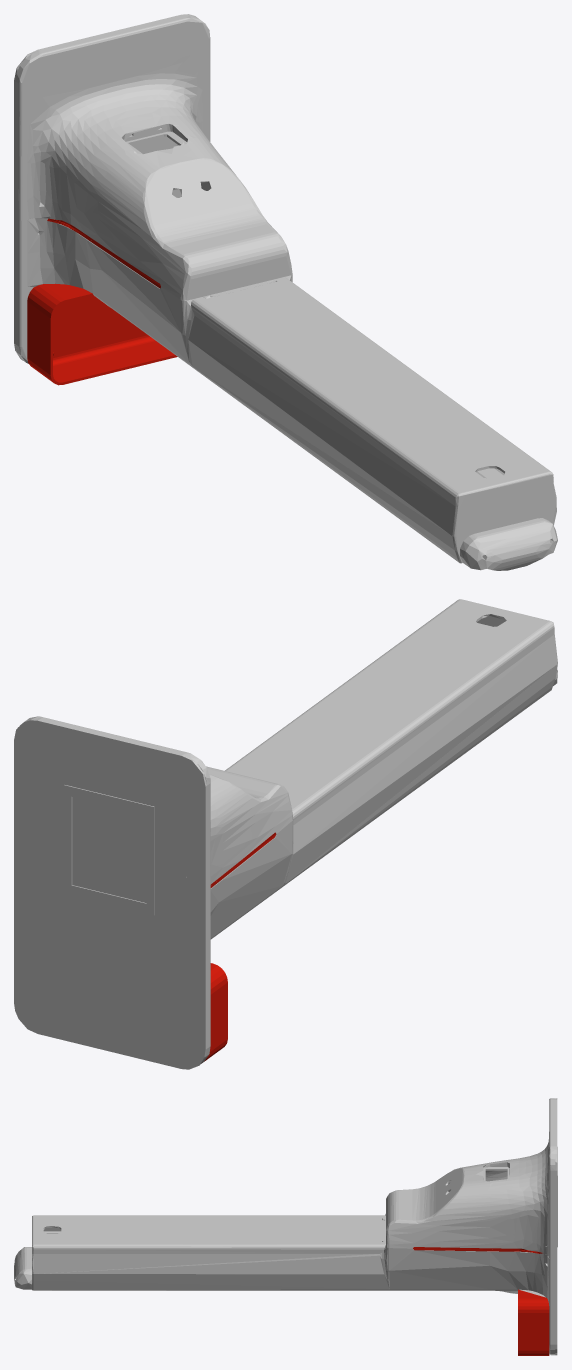
Rendered from body_base_link.obj.
3 views of the same model, one above another, from view 1: azimuth 30°, elevation 25°; view 2: azimuth 150°, elevation 25°; view 3: azimuth 270°, elevation 25° (orthographic). The views are drawn at different scales.
Parts seen in each view (by area): view 1: body_base_link; view 2: body_base_link; view 3: body_base_link.
Part boxes in pixels (x1=…): body_base_link: x1=14, y1=14, x2=557, y2=570; body_base_link: x1=14, y1=599, x2=557, y2=1069; body_base_link: x1=14, y1=1098, x2=557, y2=1355.
Bounding box in the file's own units: 0.4 × 0.625 × 1.49.
